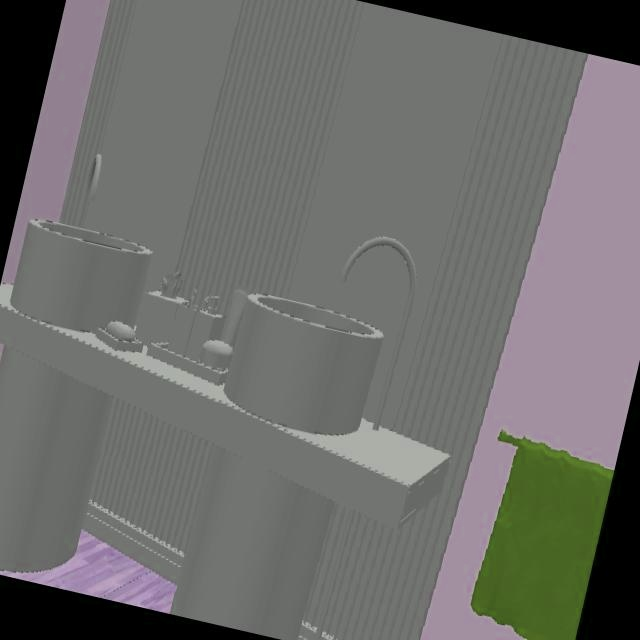washbasin: (220, 294, 383, 439), (8, 220, 153, 333)
